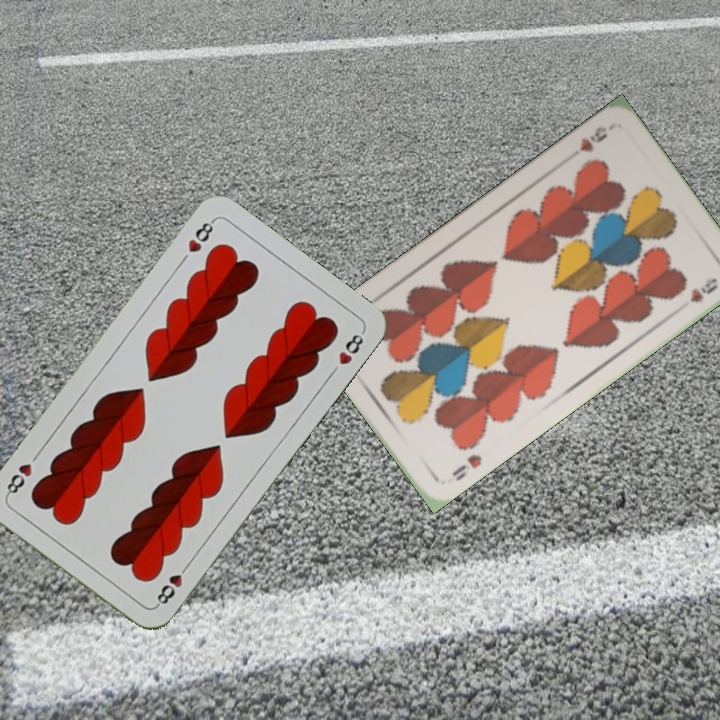H8: (152, 559, 193, 610), (183, 215, 217, 255)
H9: (448, 450, 485, 484), (575, 122, 610, 155)
